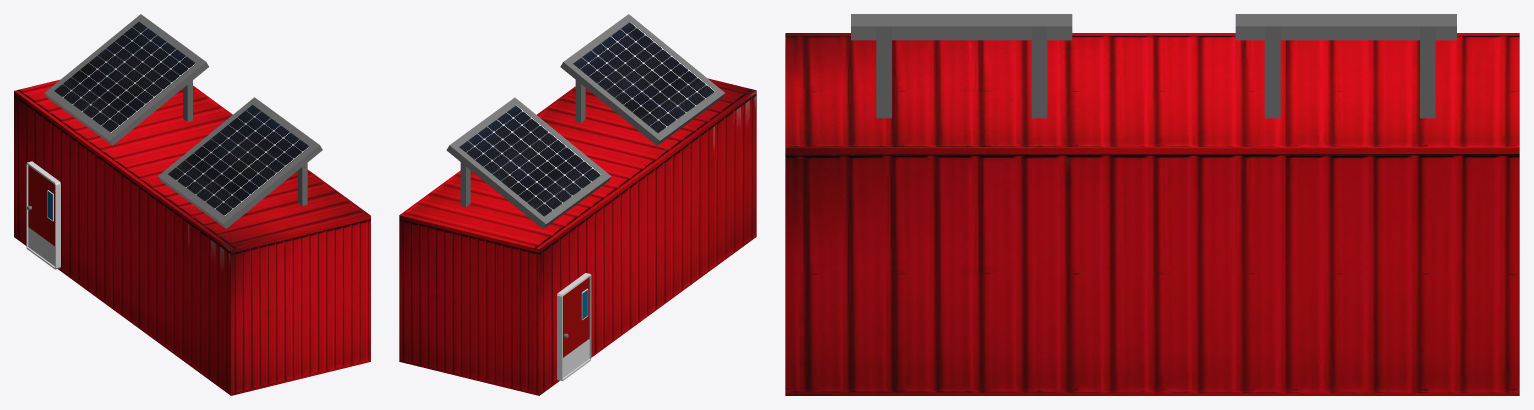
Rendered from Container_House_3.fbx.
3 views of the same model, side by side, from view 1: azimuth 30°, elevation 25°; view 2: azimuth 150°, elevation 25°; view 3: azimuth 270°, elevation 25° (orthographic). The views are drawn at different scales.
Parts seen in each view (by area): view 1: Cube.084; view 2: Cube.084; view 3: Cube.084.
Boxes of the visible parts, x1,y1,x2,y2 form: Cube.084: [14, 14, 370, 395]; Cube.084: [399, 14, 756, 395]; Cube.084: [785, 14, 1519, 395].
Size of the model in its own units: 453 by 618 by 1156.
